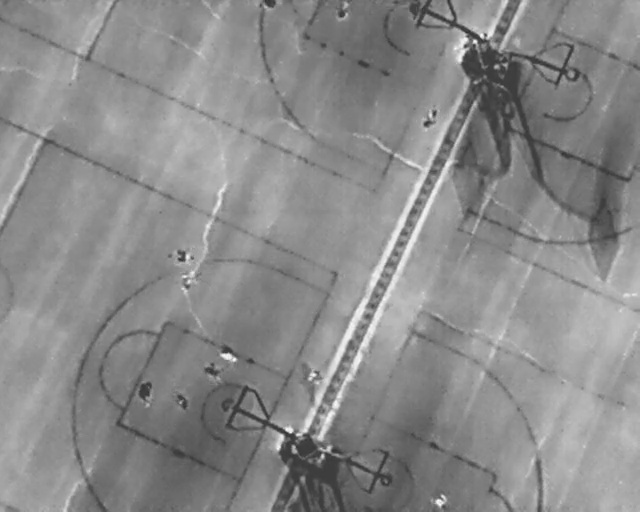Person: (214, 342, 243, 372), (421, 102, 440, 132), (202, 361, 224, 385), (168, 248, 195, 266), (138, 380, 153, 407), (429, 491, 447, 512), (181, 269, 194, 295), (175, 393, 189, 412), (338, 1, 350, 22)
